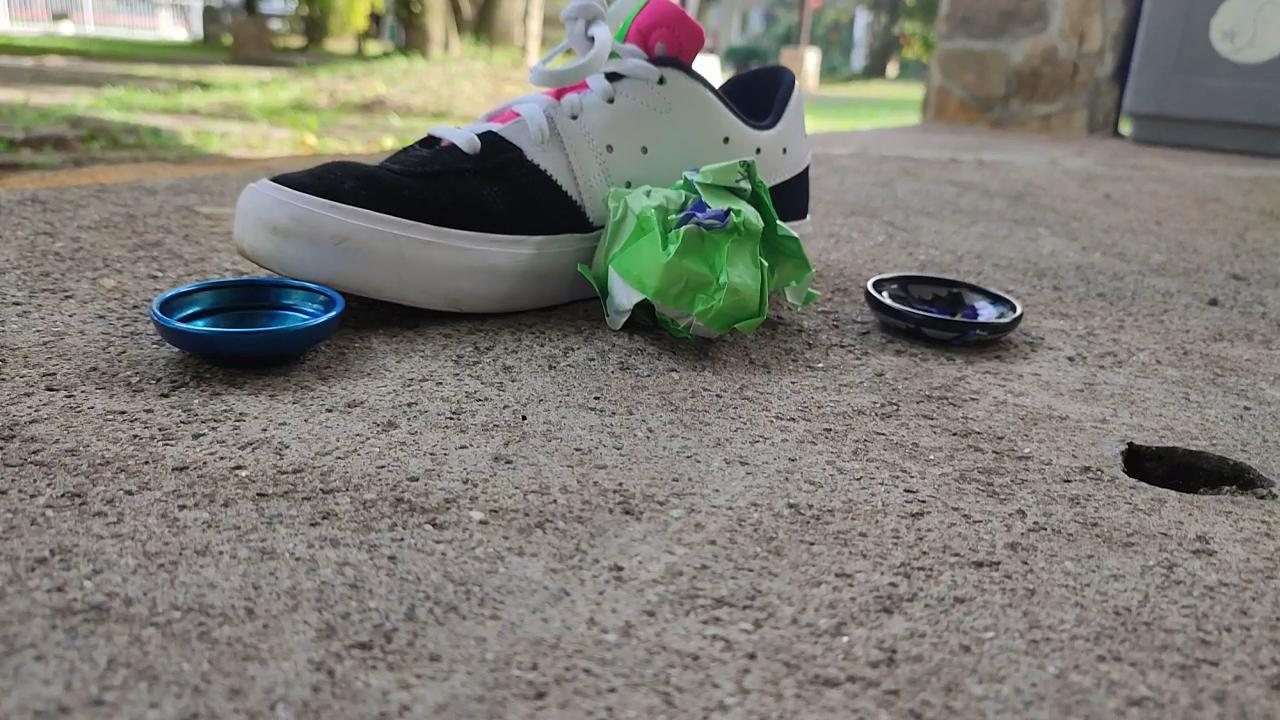Paper: (562, 134, 823, 363)
